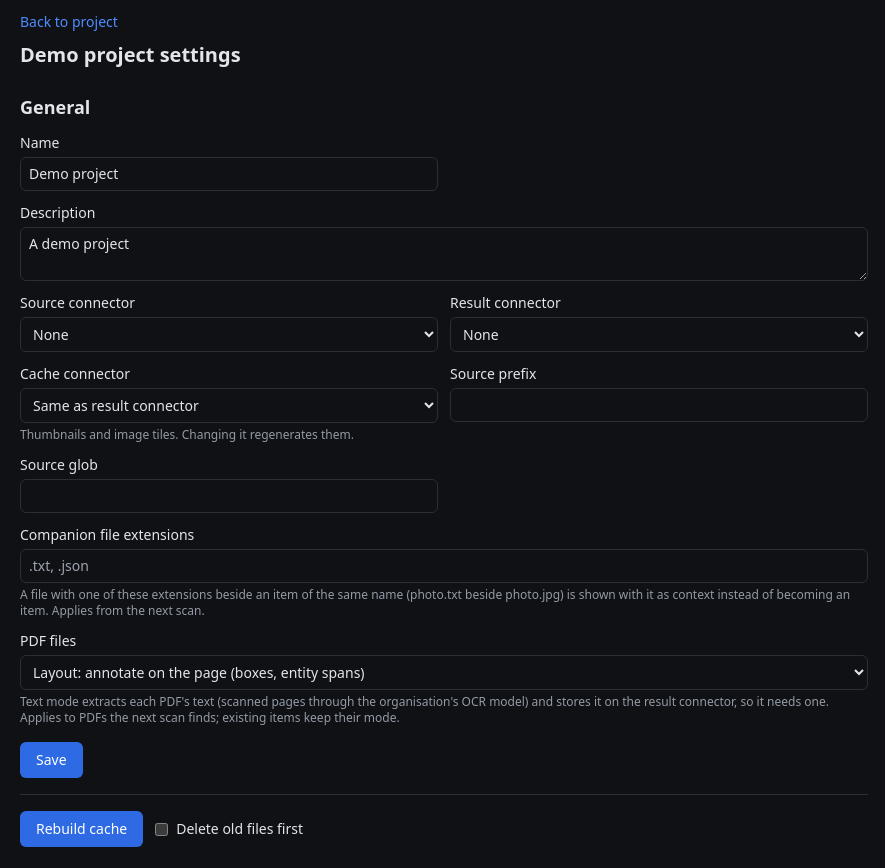
it: ProjectSettingsPage › queues a cache rebuild with purge once the project has somewhere to write it
This screenshot has width=885, height=868.
Step 1. Click the checkbox labelled "Delete old files first" → (162, 829), box [155,822,168,836]
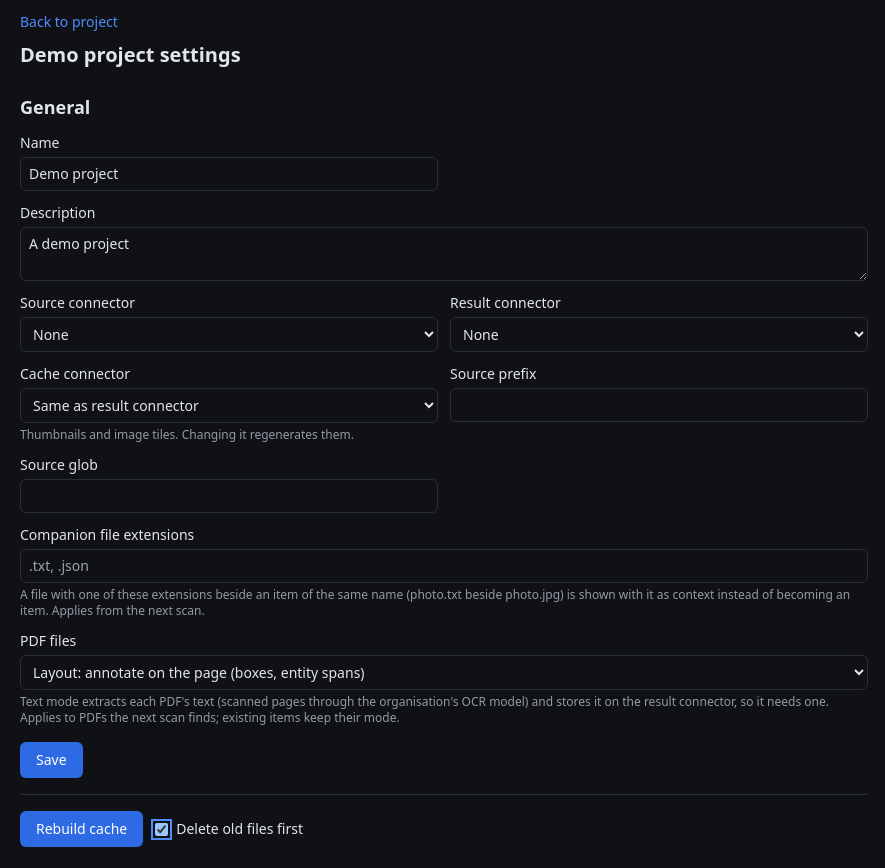
Step 2. Click the button "Rebuild cache" → (82, 829), box [20,811,143,847]
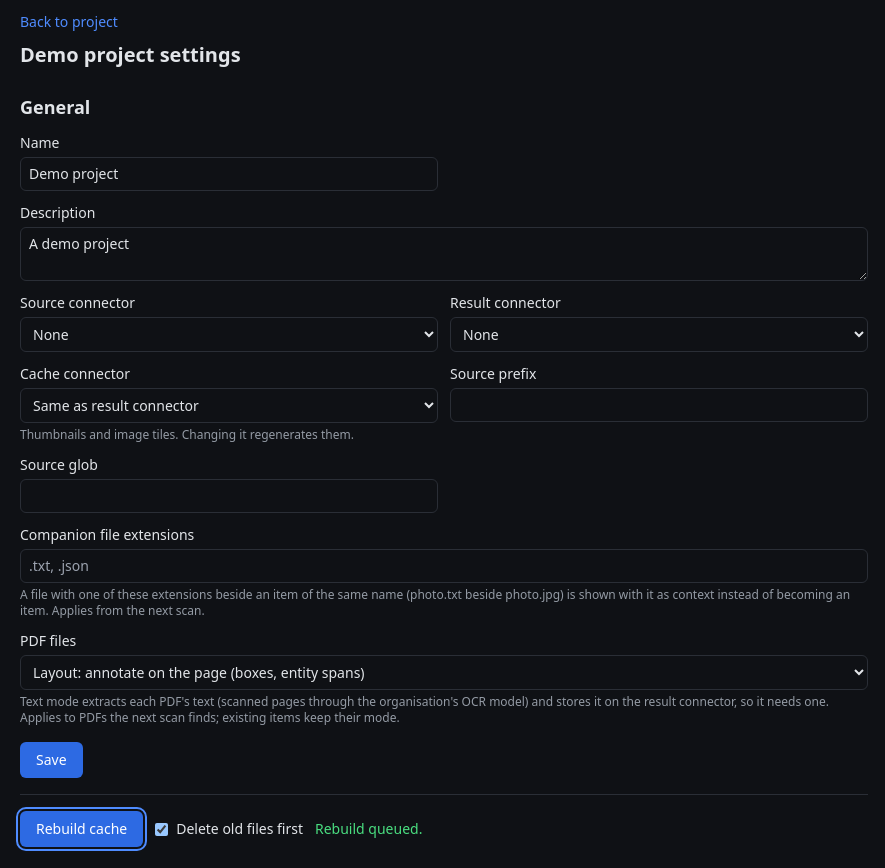
Now the text "Rebuild queued." is shown, box [315,819,422,839]
